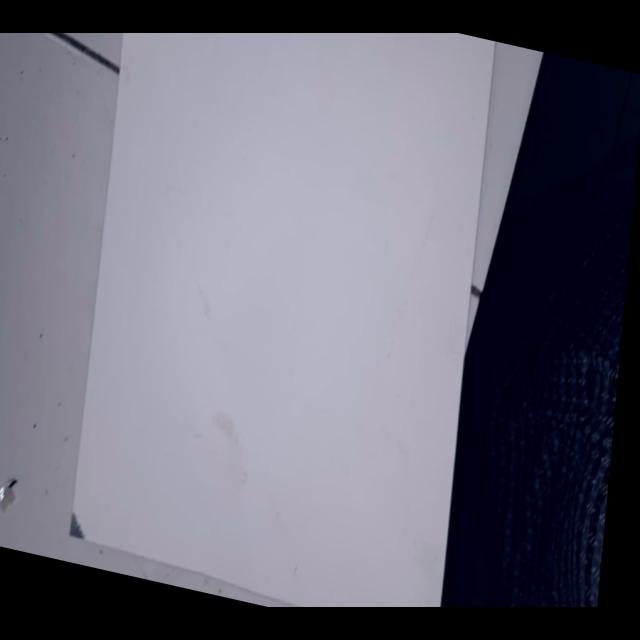TLC Plate: (70, 33, 493, 607)
